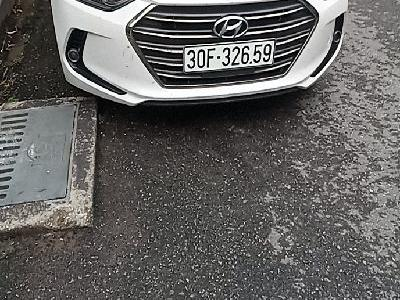lisence: (182, 39, 276, 74)
